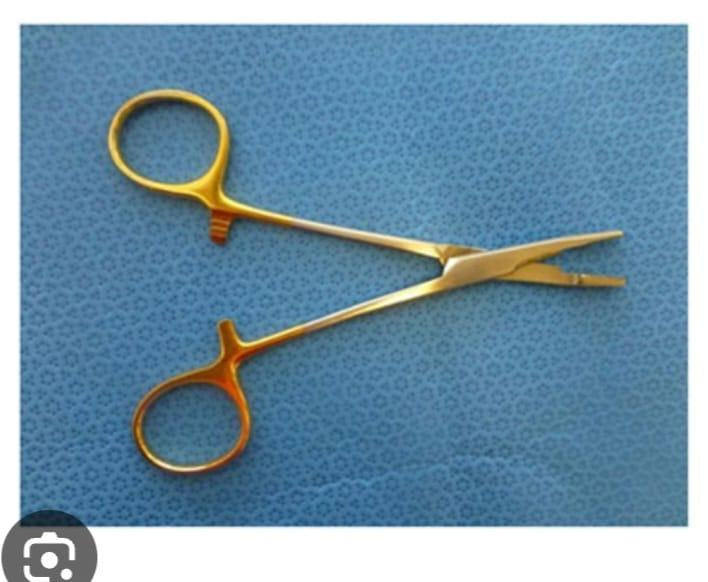Needle Holder: (102, 78, 632, 472)
